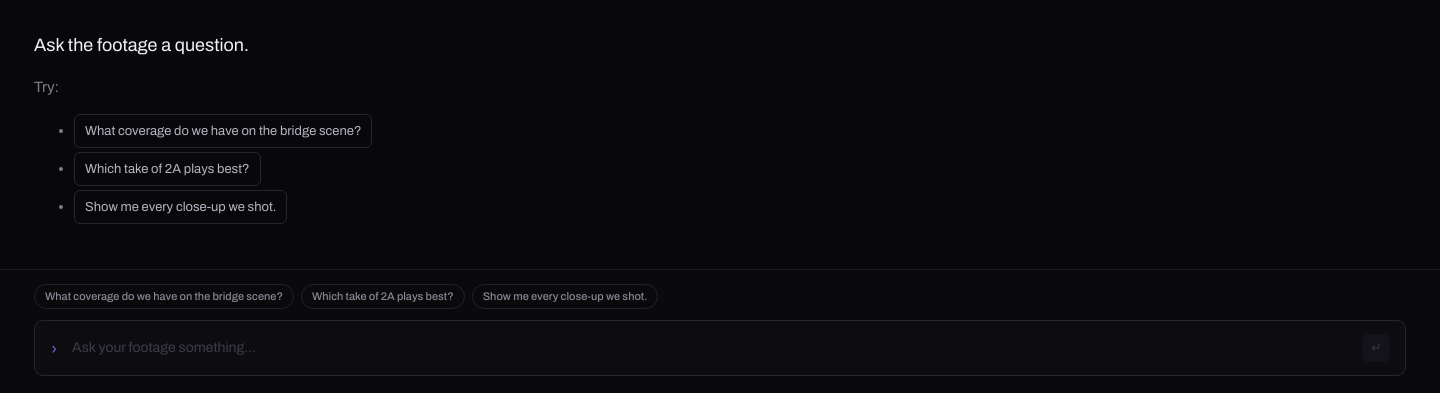
Test: SessionView › renders a takes table from the last tool_result event
Type "dialogue about the hand" into the text box labelled "Ask your footage something".
click(710, 348); type("dialogue about the hand")  # box [70,336,1350,360]
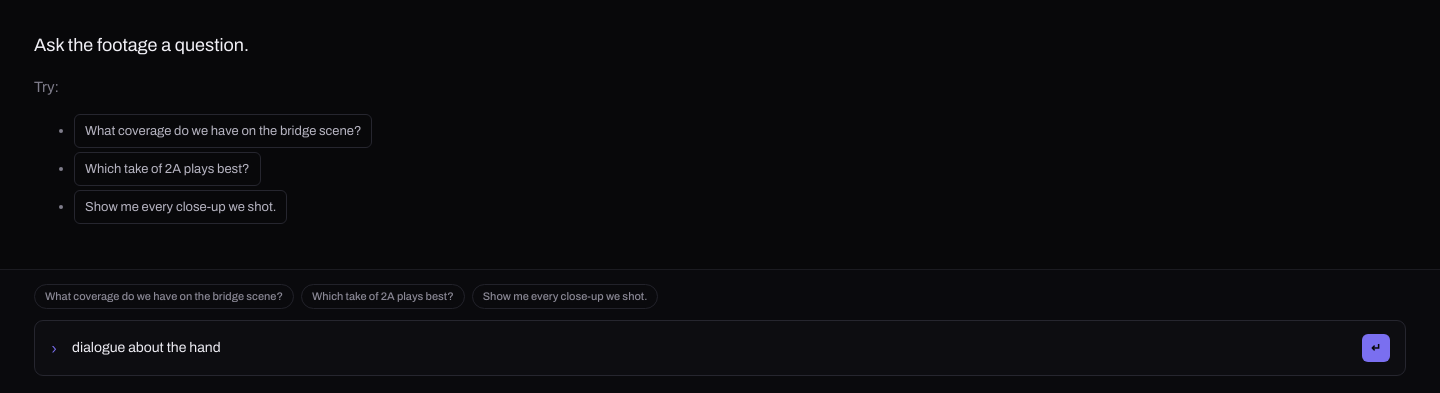
Press Enter in the text box named "Ask your footage something", box [70,336,1350,360]
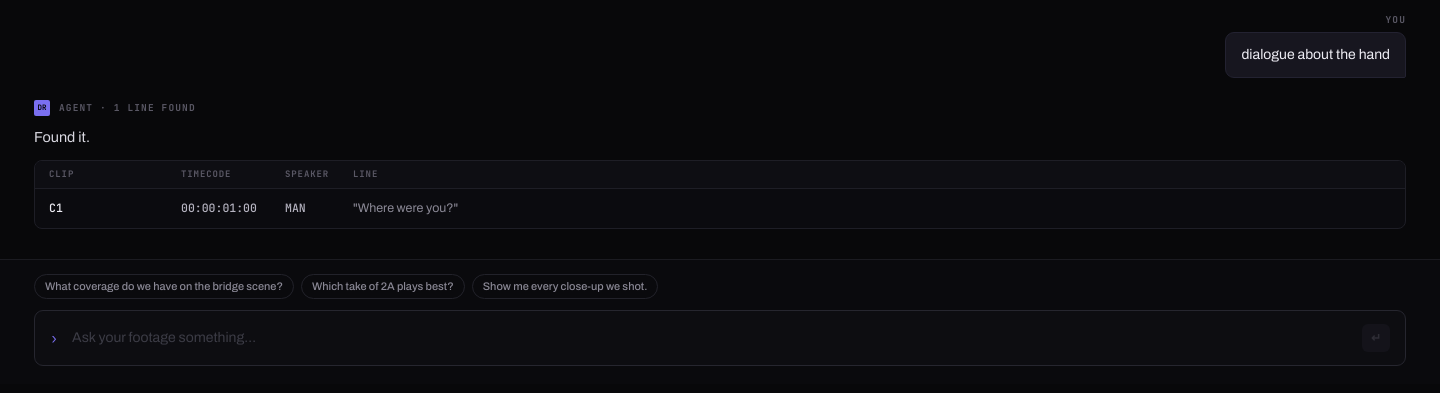
expect the text "\"Where were you?\"" is shown: met, box [353,200,458,214]
expect the text "AGENT · 1 LINE FOUND" is shown: met, box [59,103,196,112]
